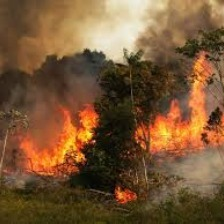incendio: (143, 57, 222, 149), (8, 122, 88, 176), (48, 91, 107, 143), (105, 179, 148, 208)
